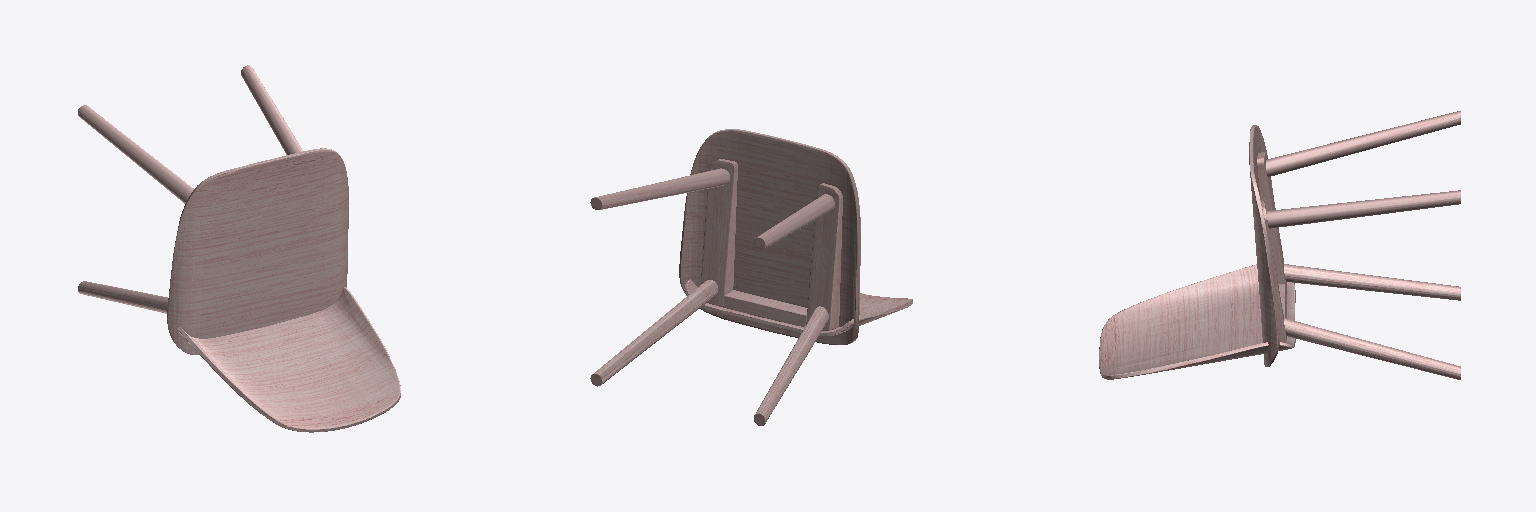
The picture shows the model from 3 angles: view 1: azimuth 30°, elevation 25°; view 2: azimuth 150°, elevation 25°; view 3: azimuth 270°, elevation 25°; orthographic projection.
Bounding box in the file's own units: 0.4626 × 0.5225 × 0.8053.
1 materials, 1 textured.